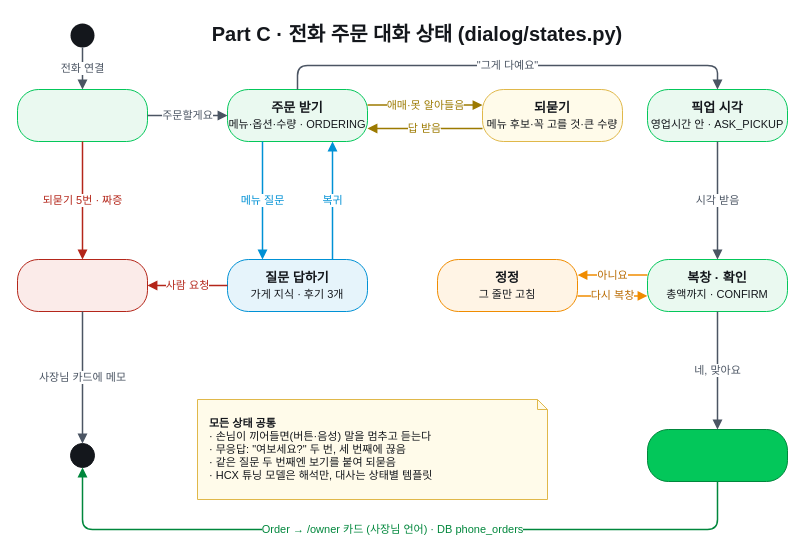
The diagram is 805 pixels wide and 555 high, and some of its shapes have lost their labels. Each missing label, with the centre of its shape:
사장님께 넘김 FALLBACK: point (82, 285)
인사 · AI 고지 GREETING: point (82, 115)
주문 확정 CLOSING: point (717, 455)
